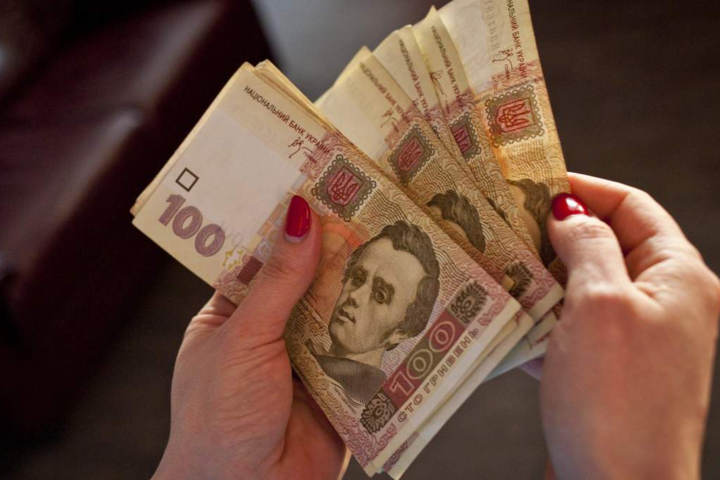bn_100: (70, 71, 545, 381), (284, 47, 571, 250), (417, 0, 600, 183), (399, 10, 522, 180), (373, 23, 450, 103)
